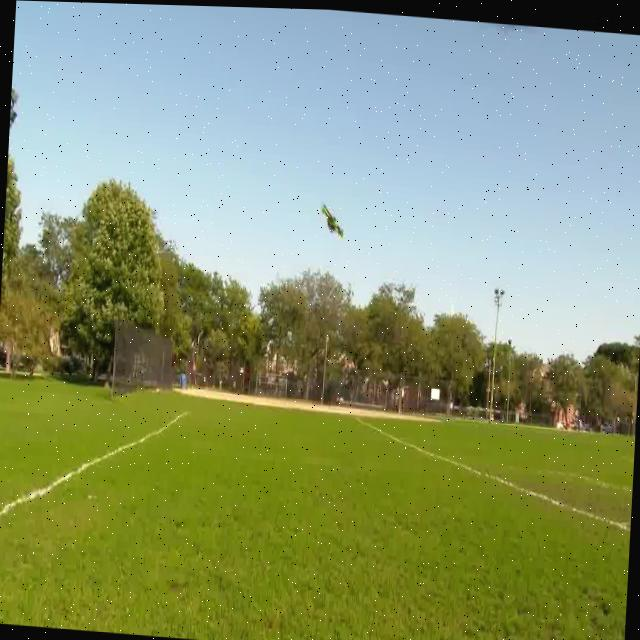drone: (311, 185, 347, 244)
